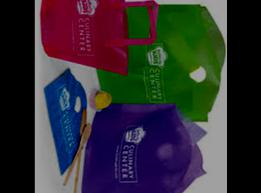Plastic: (96, 0, 222, 123), (76, 104, 215, 192), (35, 0, 159, 79), (40, 69, 86, 181)
